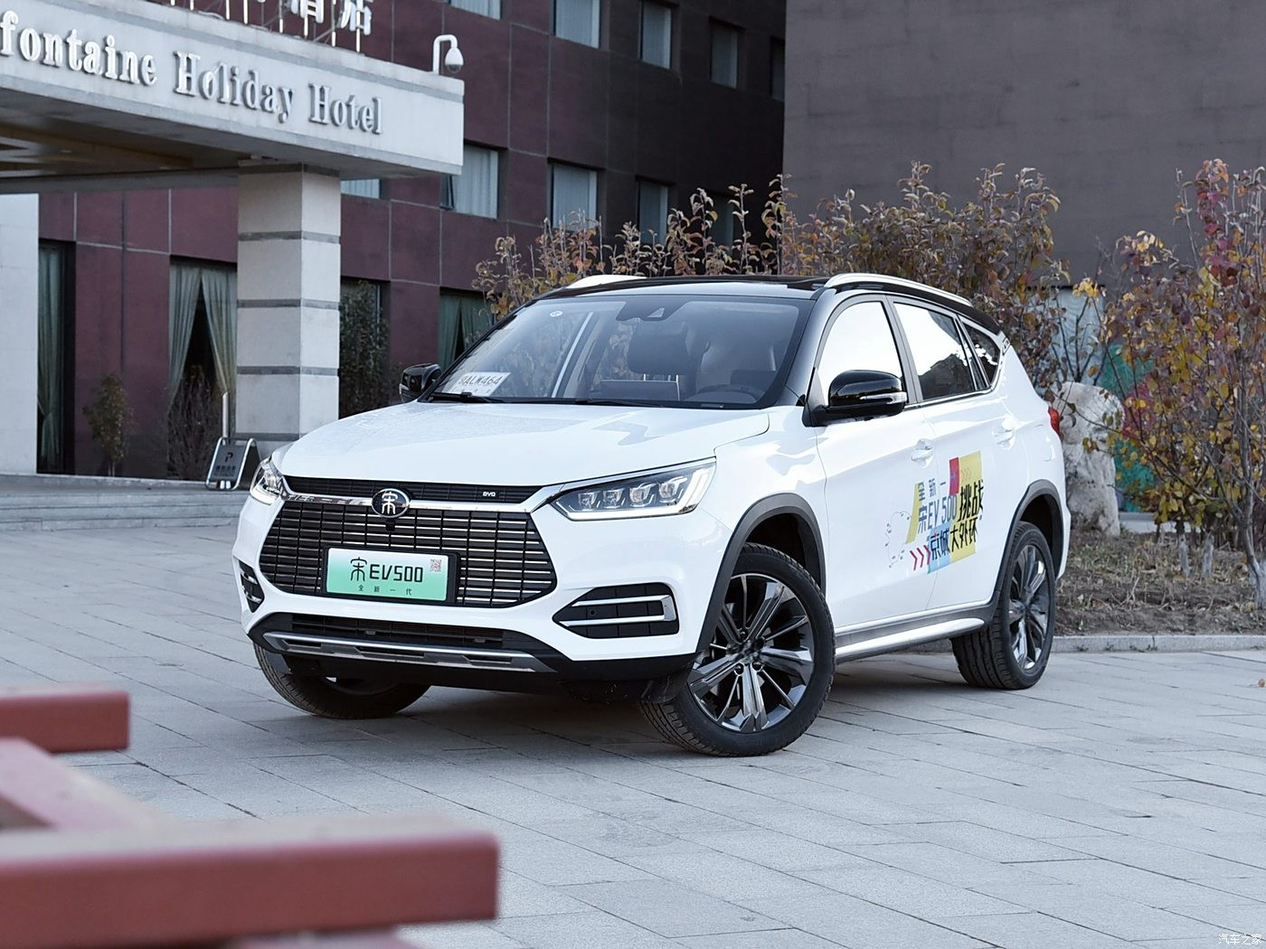BYD Song: (372, 489, 408, 517)
